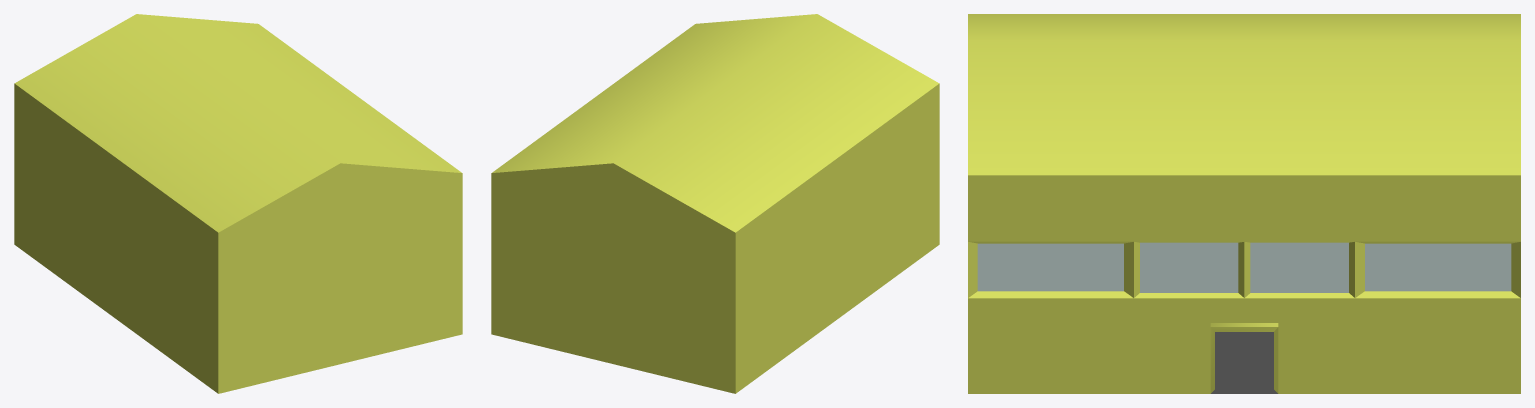
Rendered from School.fbx.
3 renders of one model, left to right at view 1: azimuth 30°, elevation 25°; view 2: azimuth 150°, elevation 25°; view 3: azimuth 270°, elevation 25°, orthographic. The views are drawn at different scales.
Parts seen in each view (by area): view 1: School; view 2: School; view 3: School.
Boxes of the visible parts, x1,y1,x2,y2 form: School: (14,14,462,393); School: (491,14,939,393); School: (968,14,1520,393).
Bounding box in the file's own units: 12.76 × 9.79 × 18.02.
